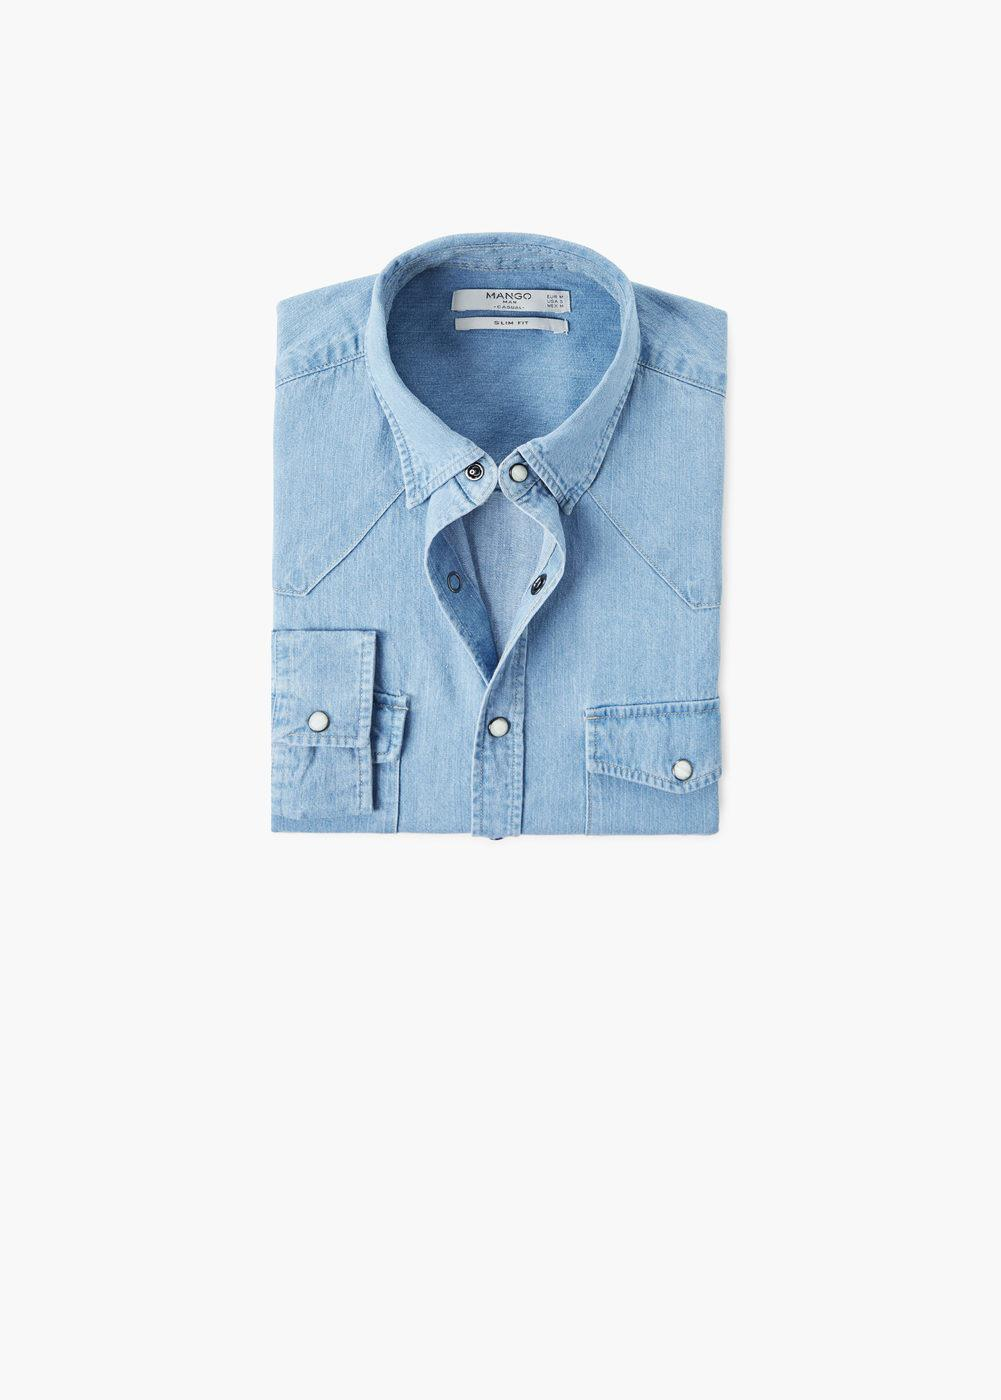teeshirt: (238, 223, 731, 869)
